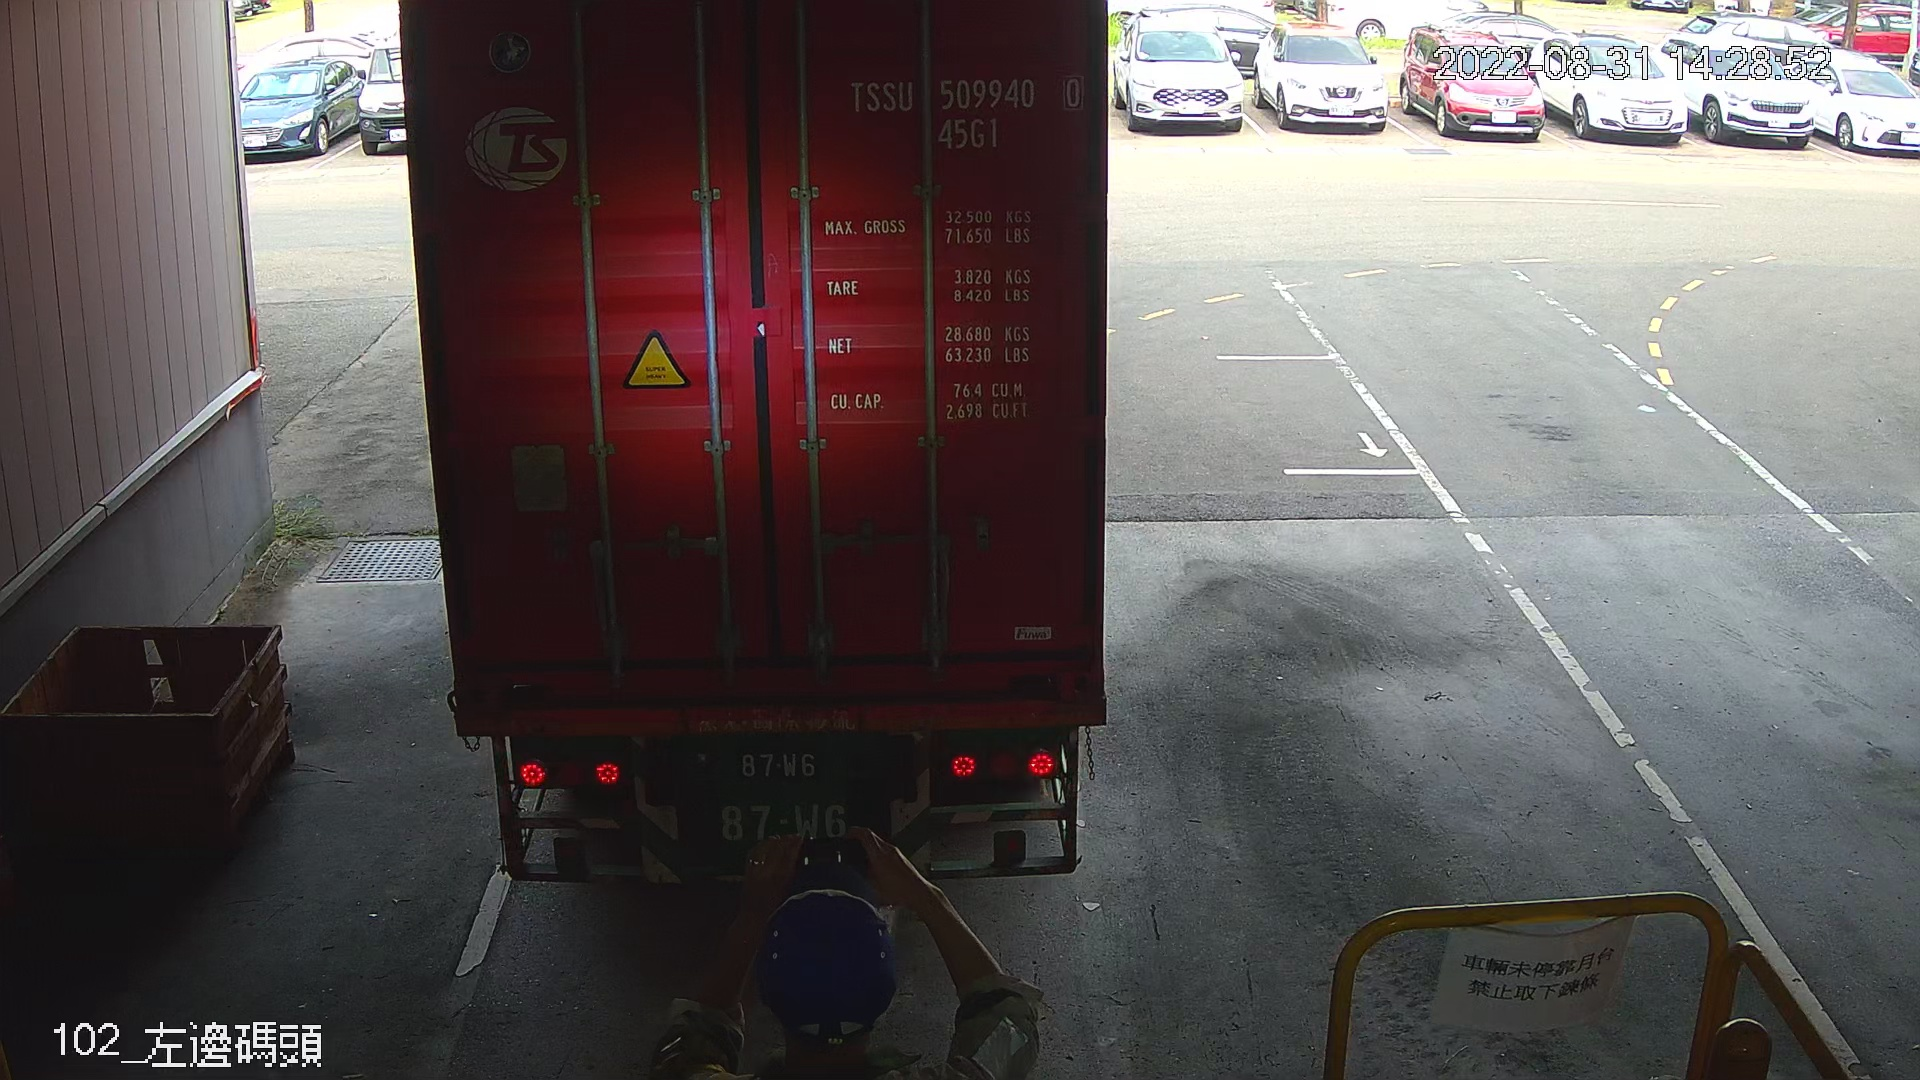container: (837, 69, 1095, 158)
